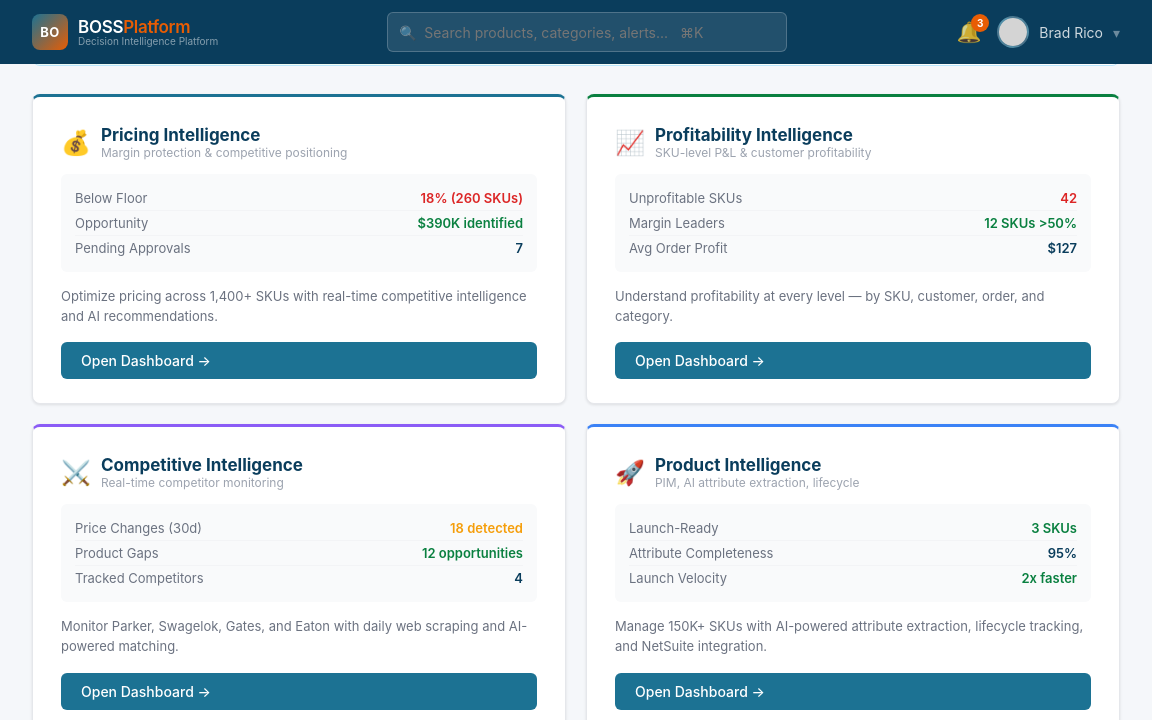
Test: Pricing Dashboard (from Home) › shows all 5 products in table
The image size is (1152, 720).
(page scrolled)
Click the button "Open Dashboard →" below "Pending Approvals" at (146, 361), box [61,342,537,379]
(page scrolled)
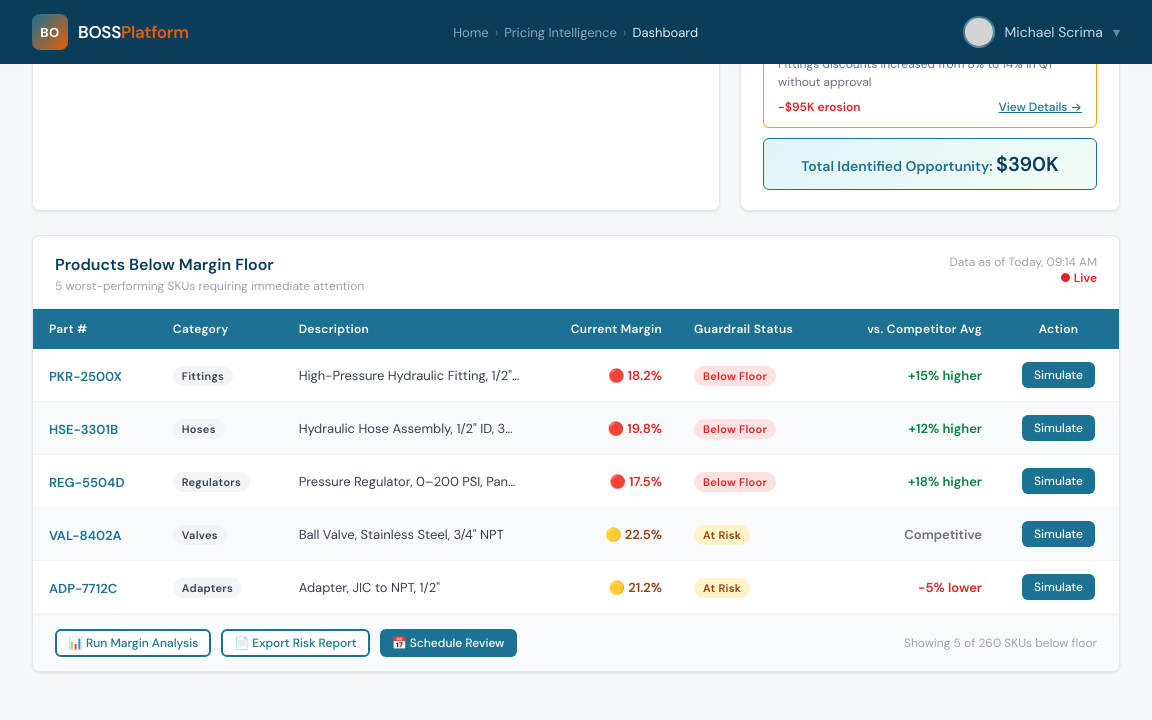
Check: the text "PKR-2500X" is shown, box [49,368,122,385]
Check: the text "HSE-3301B" is shown, box [49,421,118,438]
Check: the text "REG-5504D" is shown, box [49,474,124,491]
